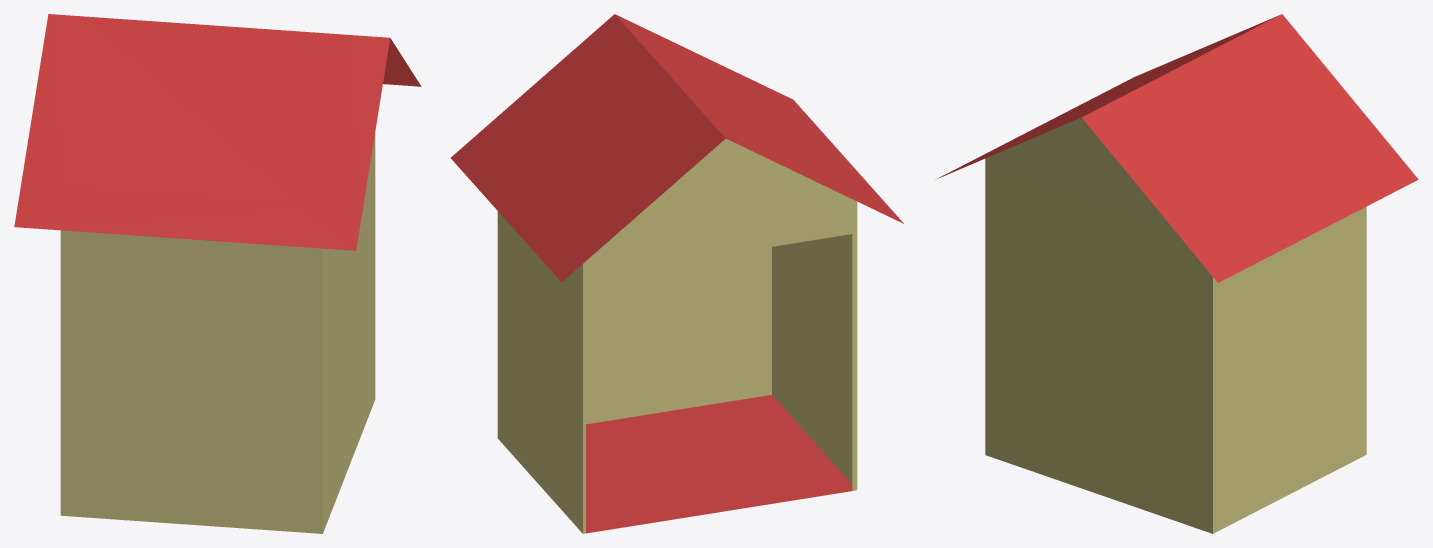
3 views of the same model, side by side, from view 1: azimuth 30°, elevation 25°; view 2: azimuth 150°, elevation 25°; view 3: azimuth 270°, elevation 25° (orthographic). The views are drawn at different scales.
Bounding box in the file's own units: 12.96 × 13.16 × 11.7.
